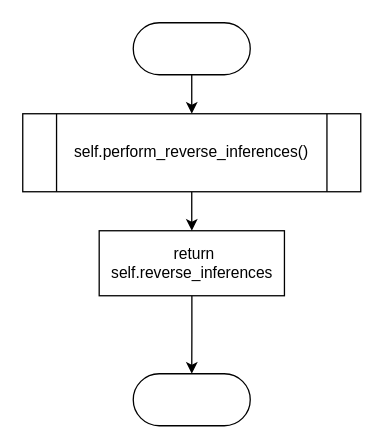
Image size: 384x448. Some labels were removed from this diagram. The shapes that lost their labels are listed below. From the top down, each one's centre as x and y in pixels, then its label:
At pixel 191 48: "begin".
At pixel 191 399: "end".
